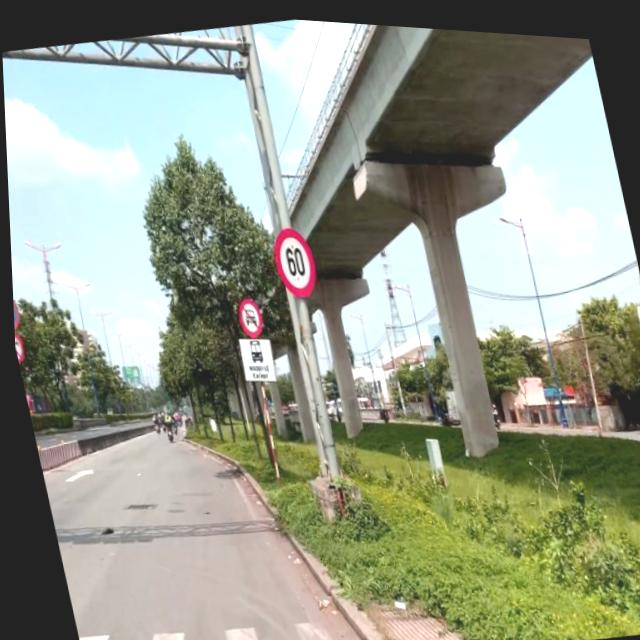Cam dung xe va do xe: (10, 295, 20, 331)
Cam xe oto: (233, 290, 261, 337)
Toc do toi da cho phep: (267, 220, 318, 299)
